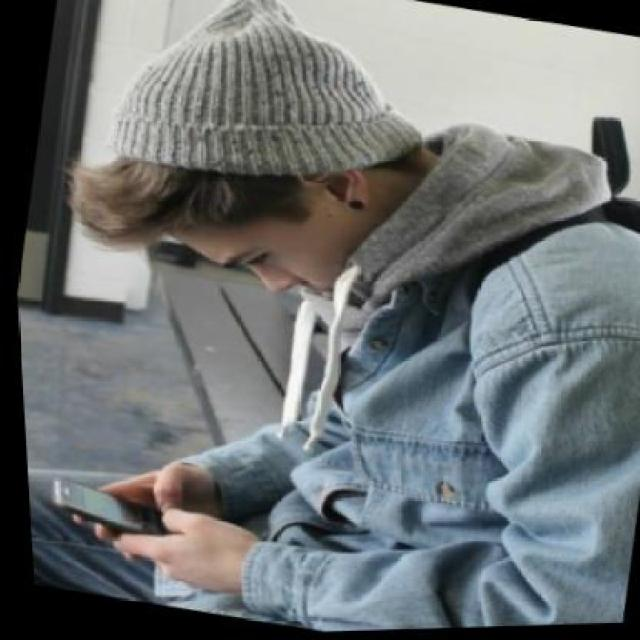hat: (95, 0, 441, 218)
